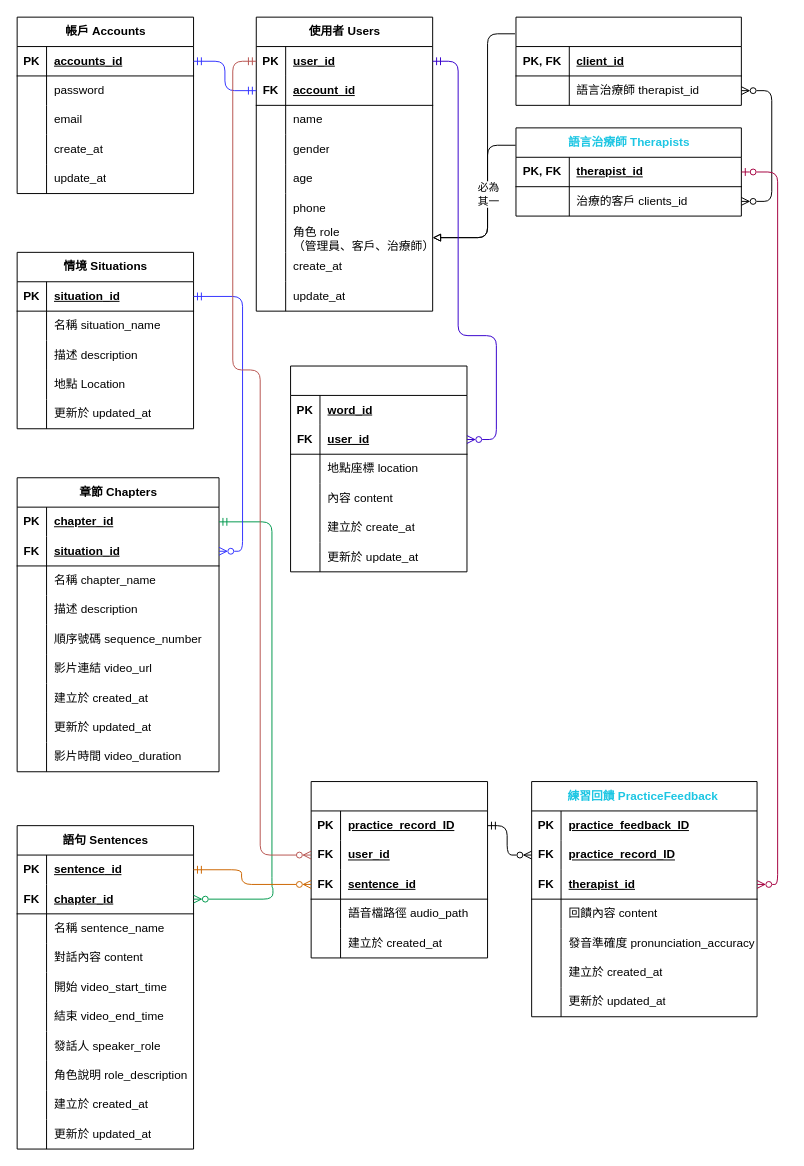
Image size: 804x1166. Some labels were removed from this diagram. The shapes that lost their labels are listed below. From the top down, each one's box as (x1, y1, x2, y2) in pixels, then its label:
(515, 16, 741, 105): 被治療客戶 Clients
(290, 365, 467, 572): 使用者常用詞彙 UserWords
(310, 781, 488, 958): 練習紀錄 PracticeRecords
